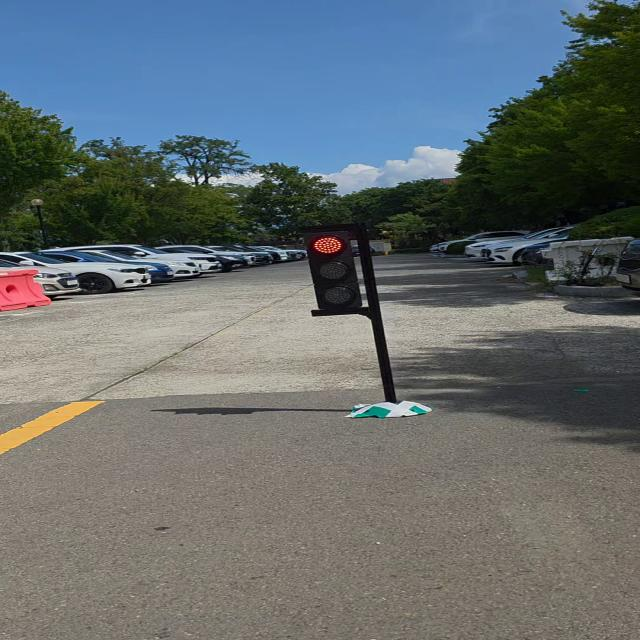red: (292, 232, 376, 312)
